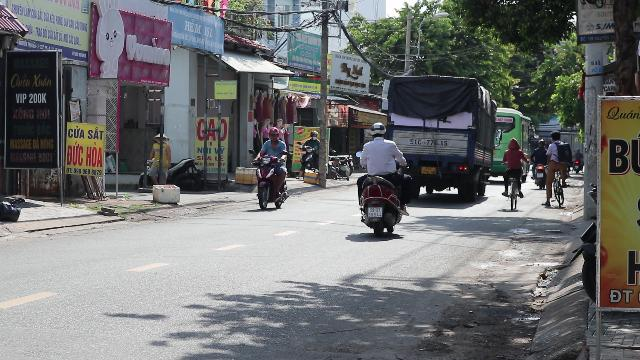helmet: (370, 121, 386, 137), (267, 126, 279, 140)
licenseplate: (366, 207, 382, 217)
motorcyclist: (352, 121, 410, 238), (249, 125, 291, 211)
